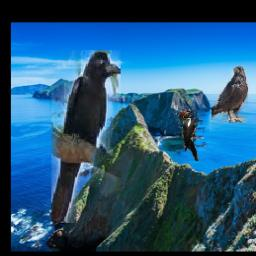Crow: (51, 51, 121, 224), (211, 65, 247, 123)
Woodpecker: (179, 111, 198, 162)
